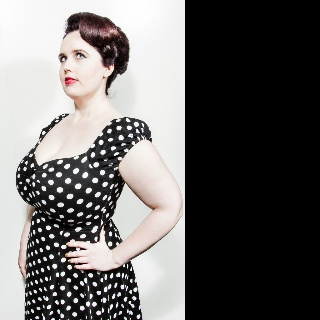without_mask: (58, 11, 133, 101)
